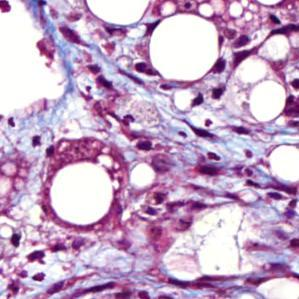steatosis: (148, 14, 218, 82), (49, 158, 114, 224)
